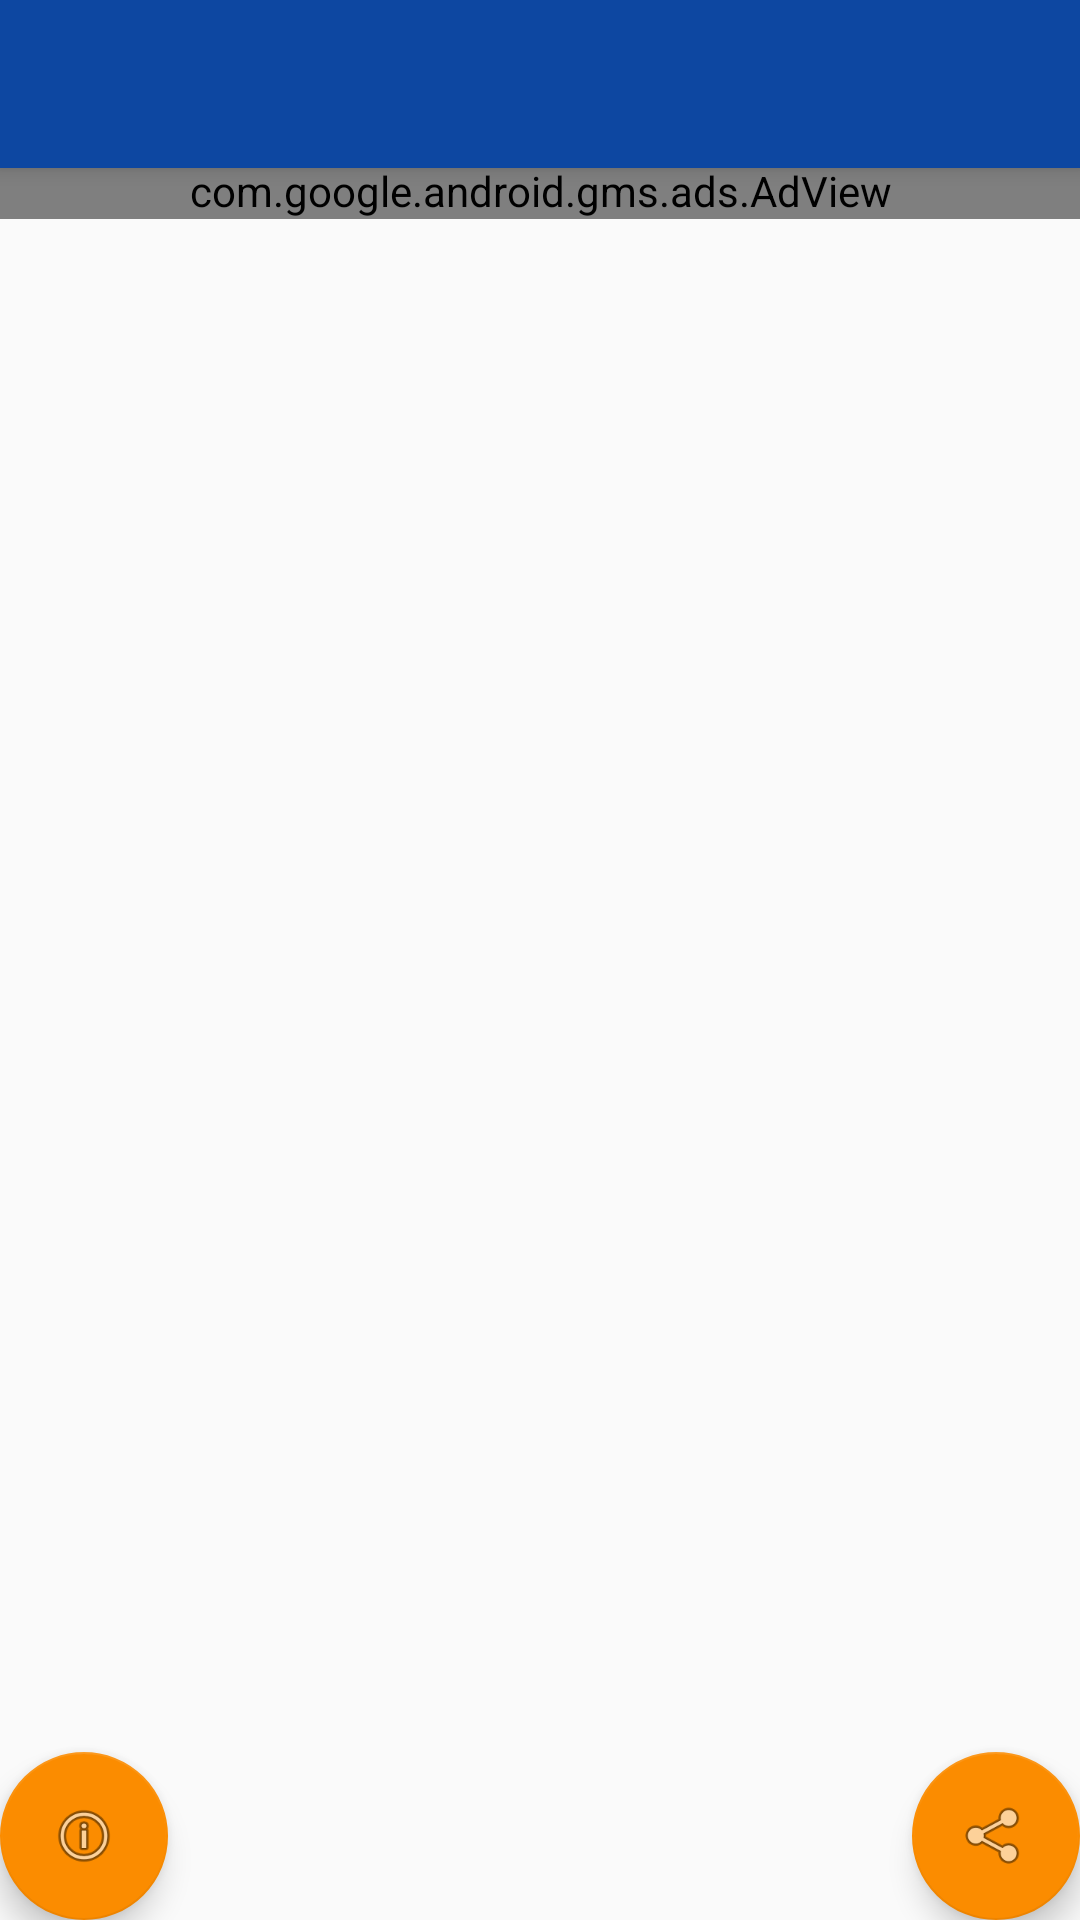

Where to tap for icons on this 1080*1920 app screen, as point (x, y):
Information: point (84, 1836)
Share: point (996, 1836)
